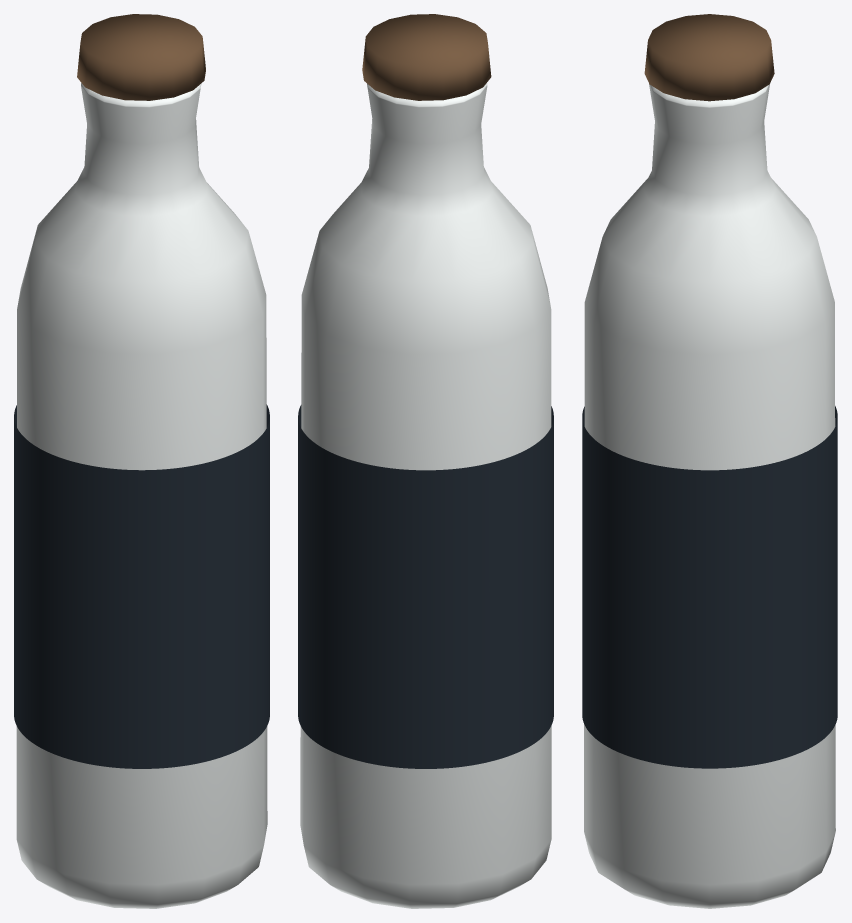
File: v2_whisky_cask_minimal.glb
3 views of the same model, side by side, from view 1: azimuth 30°, elevation 25°; view 2: azimuth 150°, elevation 25°; view 3: azimuth 270°, elevation 25° (orthographic).
Visible parts, largest first — view 1: Glass, Label_band, Cap; view 2: Glass, Label_band, Cap; view 3: Glass, Label_band, Cap.
Boxes of the visible parts, bbox=[...] form: Glass: bbox=[16, 83, 267, 908]; Label_band: bbox=[14, 404, 269, 768]; Cap: bbox=[77, 14, 205, 100]; Glass: bbox=[300, 83, 551, 908]; Label_band: bbox=[298, 405, 553, 768]; Cap: bbox=[362, 14, 491, 100]; Glass: bbox=[584, 84, 835, 908]; Label_band: bbox=[582, 406, 837, 768]; Cap: bbox=[644, 14, 774, 101].
Size of the model in its own units: 0.0777 by 0.2765 by 0.0777.
